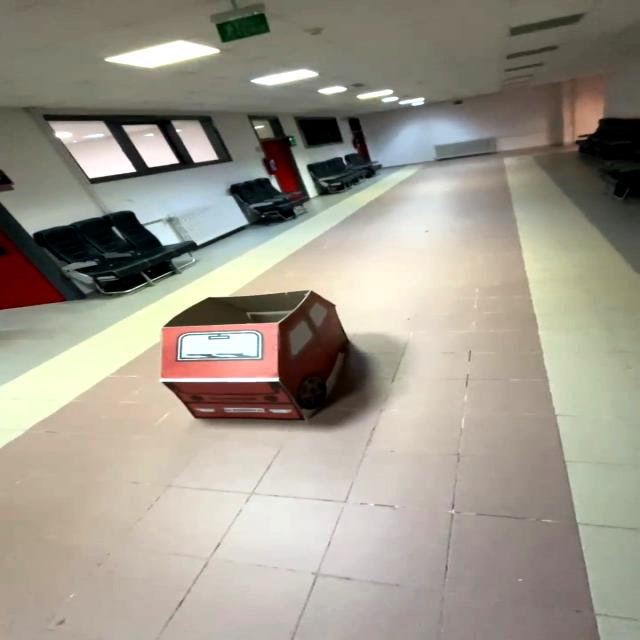red_car: (130, 290, 396, 425)
